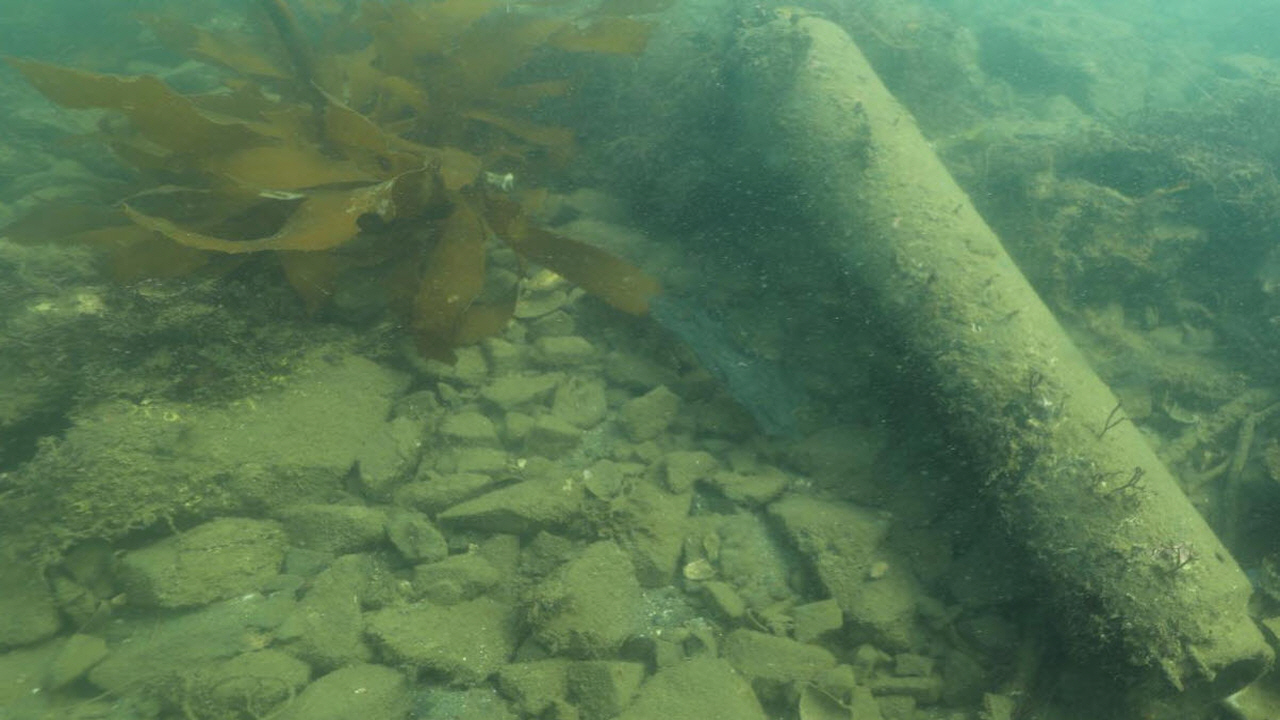eel fish trap: (724, 13, 1275, 719)
